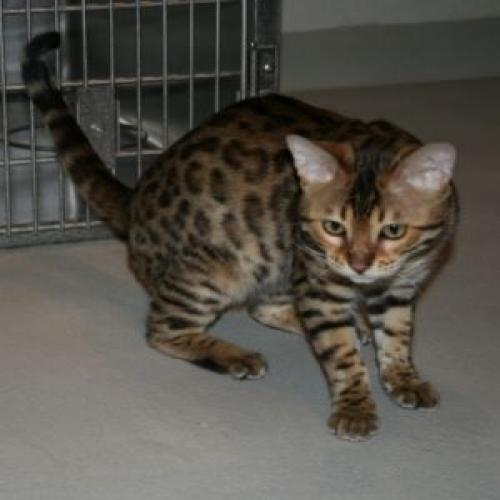bengal: (277, 126, 468, 296)
